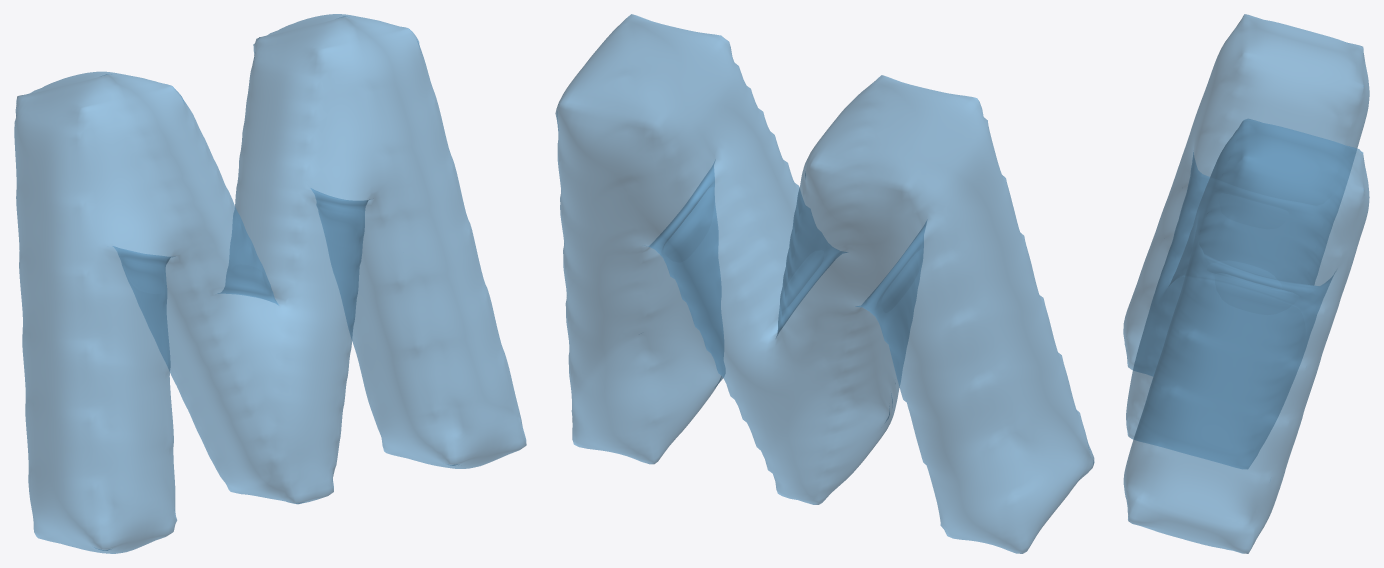
File: mbukva1.glb
3 renders of one model, left to right at view 1: azimuth 30°, elevation 25°; view 2: azimuth 150°, elevation 25°; view 3: azimuth 270°, elevation 25°, orthographic. The views are drawn at different scales.
Visible parts, largest first — view 1: Text; view 2: Text; view 3: Text.
Part boxes in pixels (x1,y1,x2,y2): Text: (14, 14, 526, 553); Text: (555, 14, 1094, 553); Text: (1123, 14, 1369, 553).
Bounding box in the file's own units: 0.6579 × 0.5958 × 0.3472.
